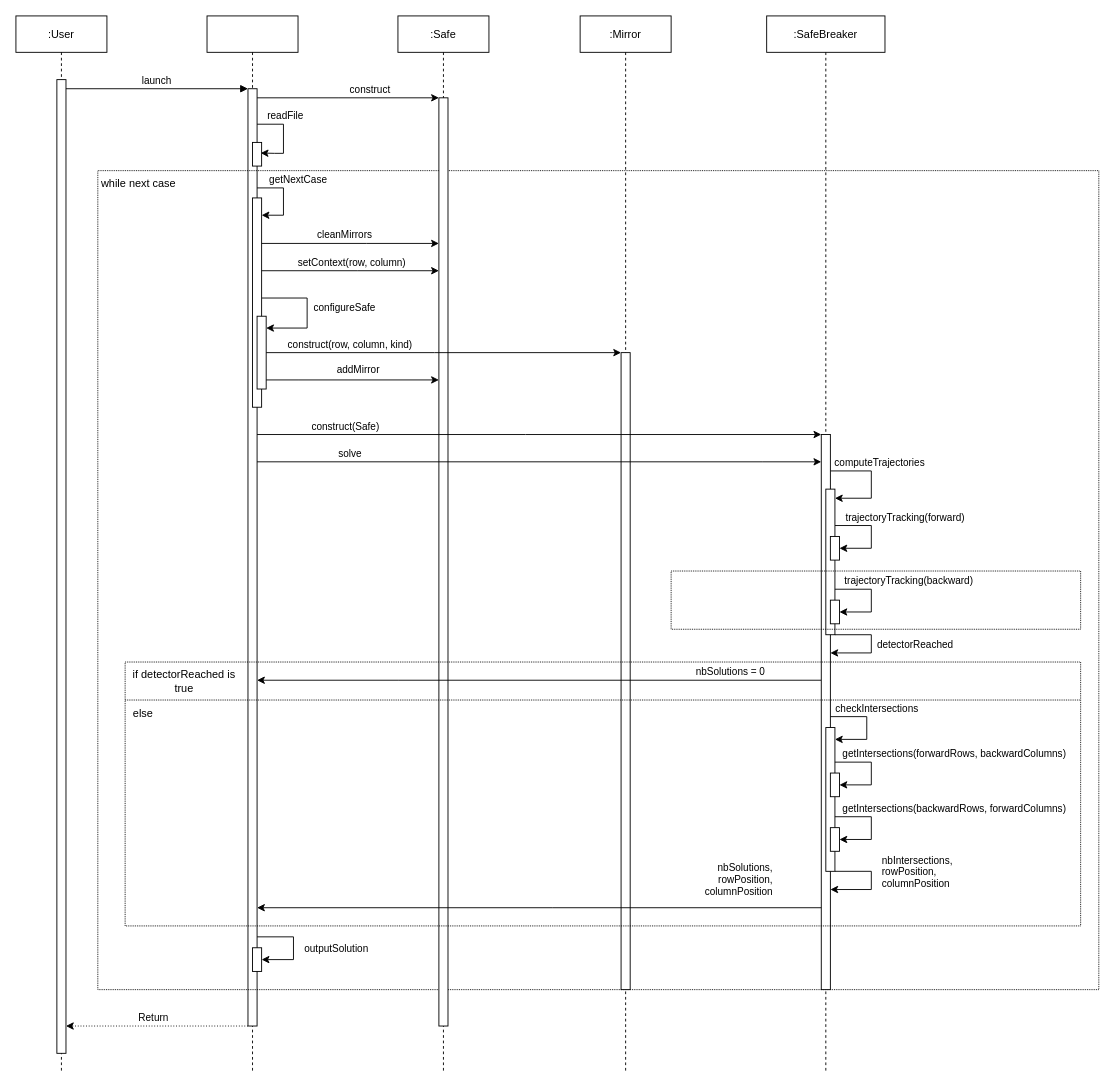
This 1115x1087 diagram has some shape labels left out. The shapes that lost their labels are listed below. From the top down, each one's box as (x1, y1, x2, y2) in pixels, then its label:
(206, 15, 298, 1072): :API
(670, 570, 1081, 629): if detector not reached
